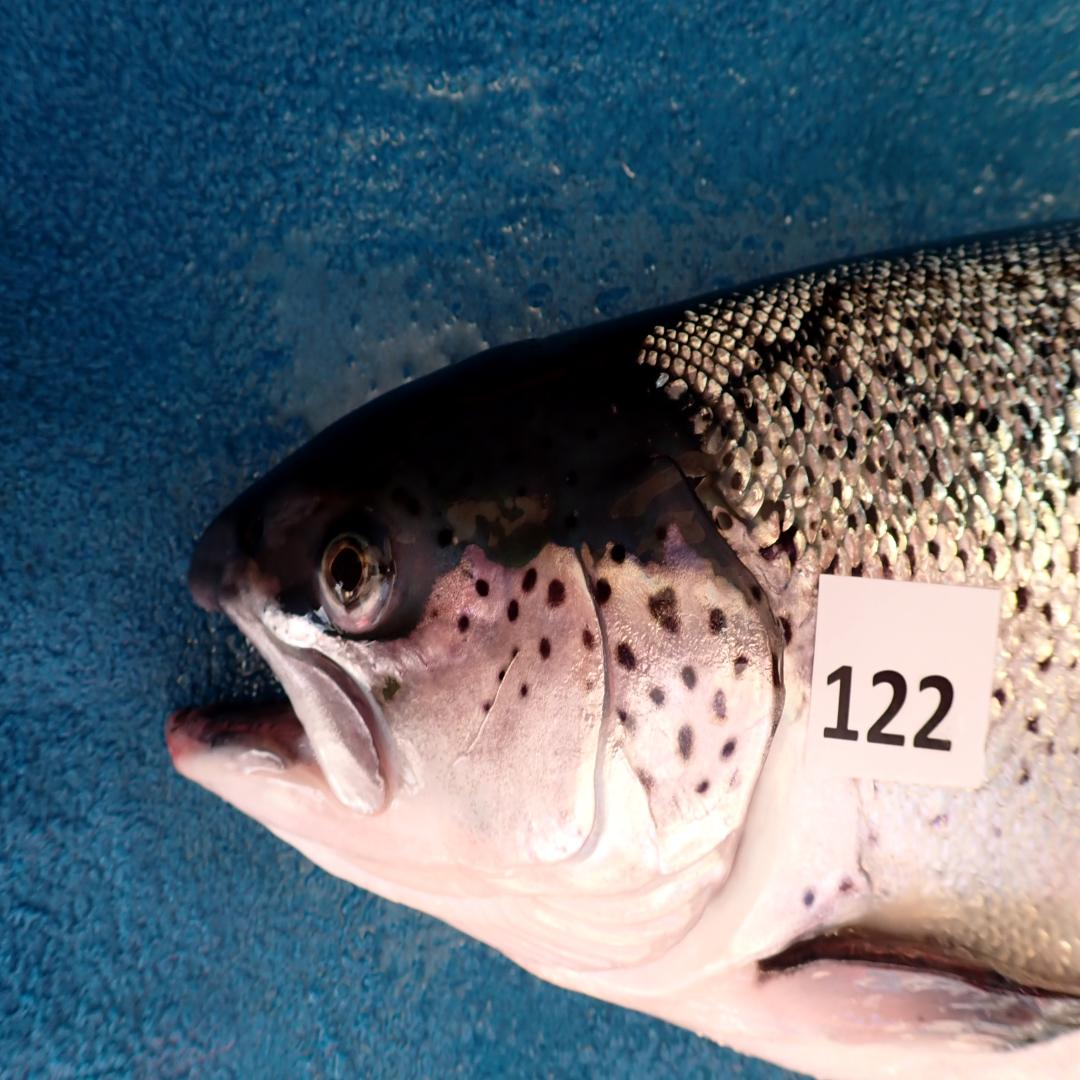roi: (383, 532, 779, 986)
